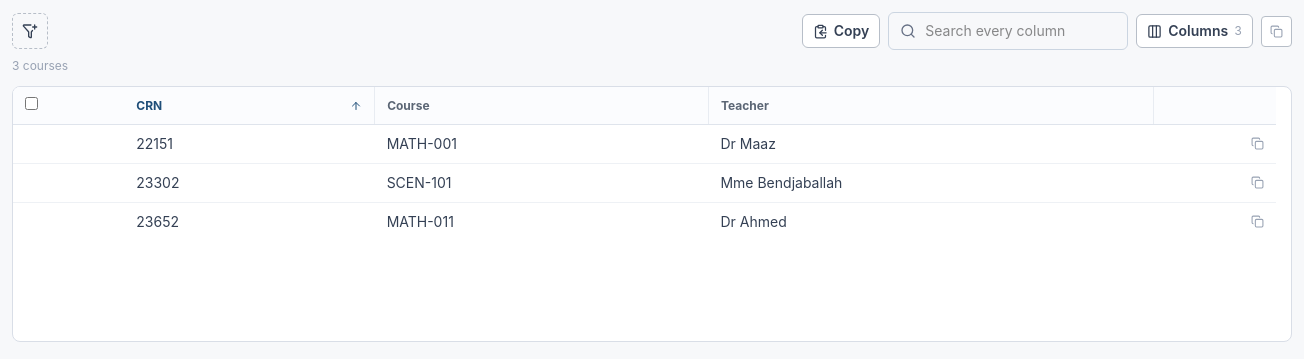
Scenario: a list on the shared table › sorts by a heading, searches every shown column, and reports what is shown
Step 1. Click the button with aria-label "Sort by Course" → [408, 105], box [387,98,696,114]
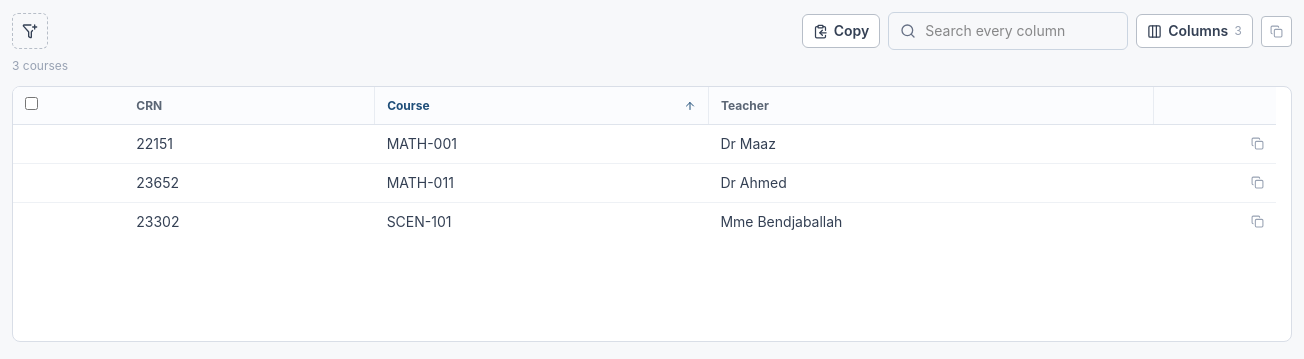
Step 2. Click the button with aria-label "Sort by Course" → [408, 105], box [387,98,696,114]
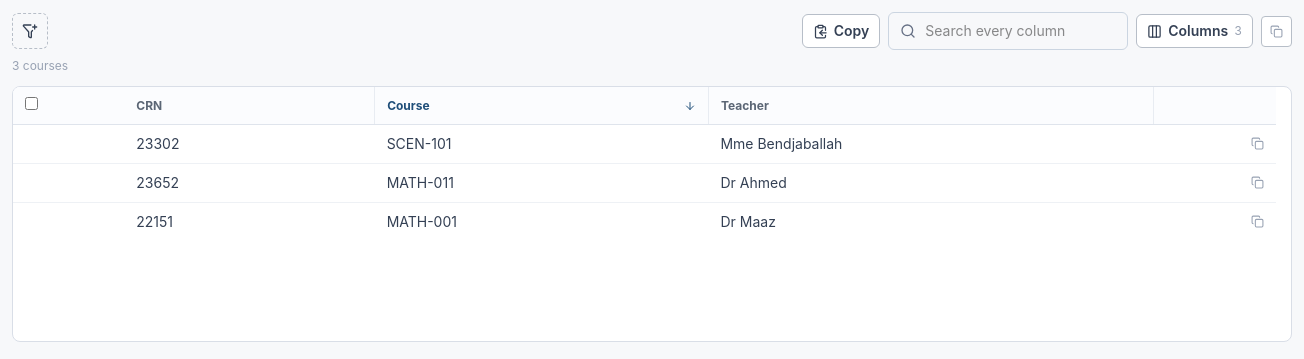
Step 3. Type "ahmed" into the search field labelled "Search every column" → [1008, 31], box [888,12,1128,50]
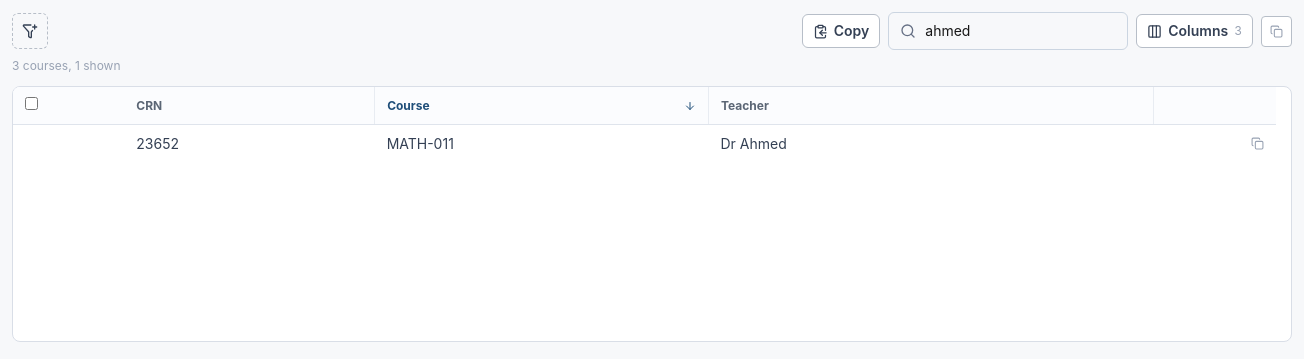
Result: the text "3 courses, 1 shown" is shown at [12,58,120,73]
